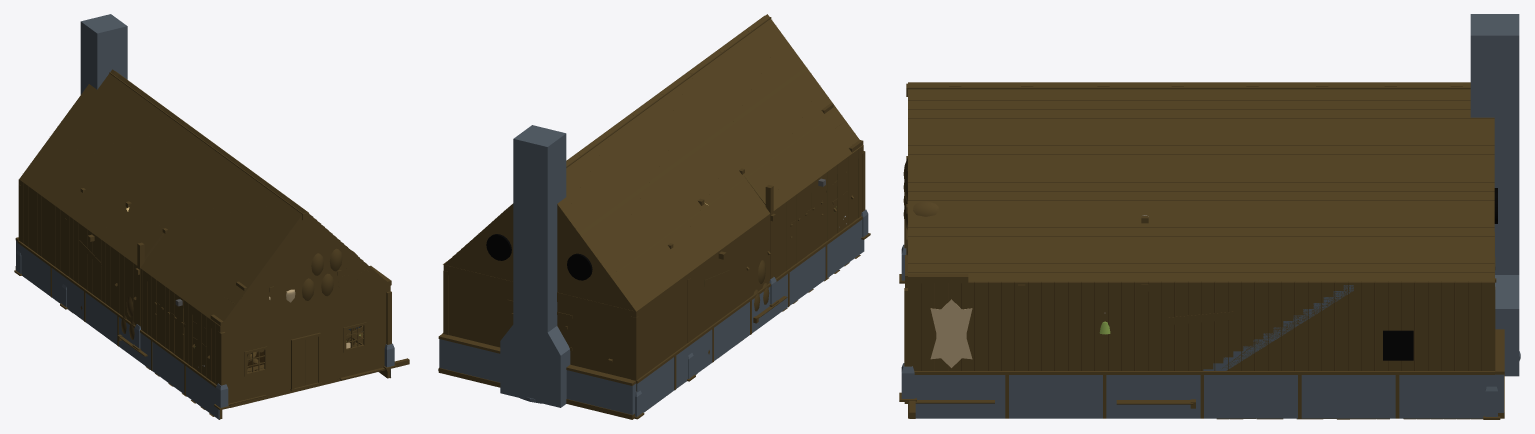
The model's file is Cabin_Blockout_09.fbx.
3 views of the same model, side by side, from view 1: azimuth 30°, elevation 25°; view 2: azimuth 150°, elevation 25°; view 3: azimuth 270°, elevation 25° (orthographic). The views are drawn at different scales.
Parts seen in each view (by area): view 1: polySurface2239; view 2: polySurface2239; view 3: polySurface2239.
Boxes of the visible parts, bbox=[...] form: polySurface2239: bbox=[14, 14, 409, 419]; polySurface2239: bbox=[438, 14, 870, 419]; polySurface2239: bbox=[899, 14, 1520, 419].
Bounding box in the file's own units: 982 × 1111 × 1863.
